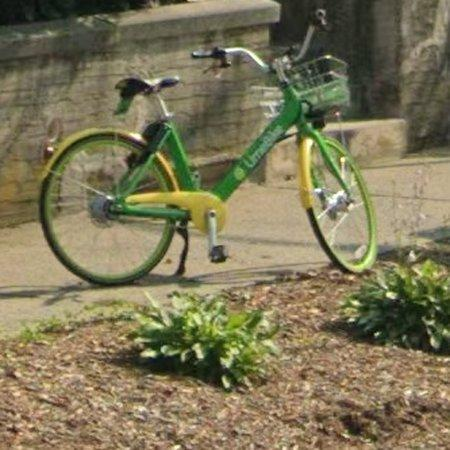bicycles: (40, 11, 378, 284)
